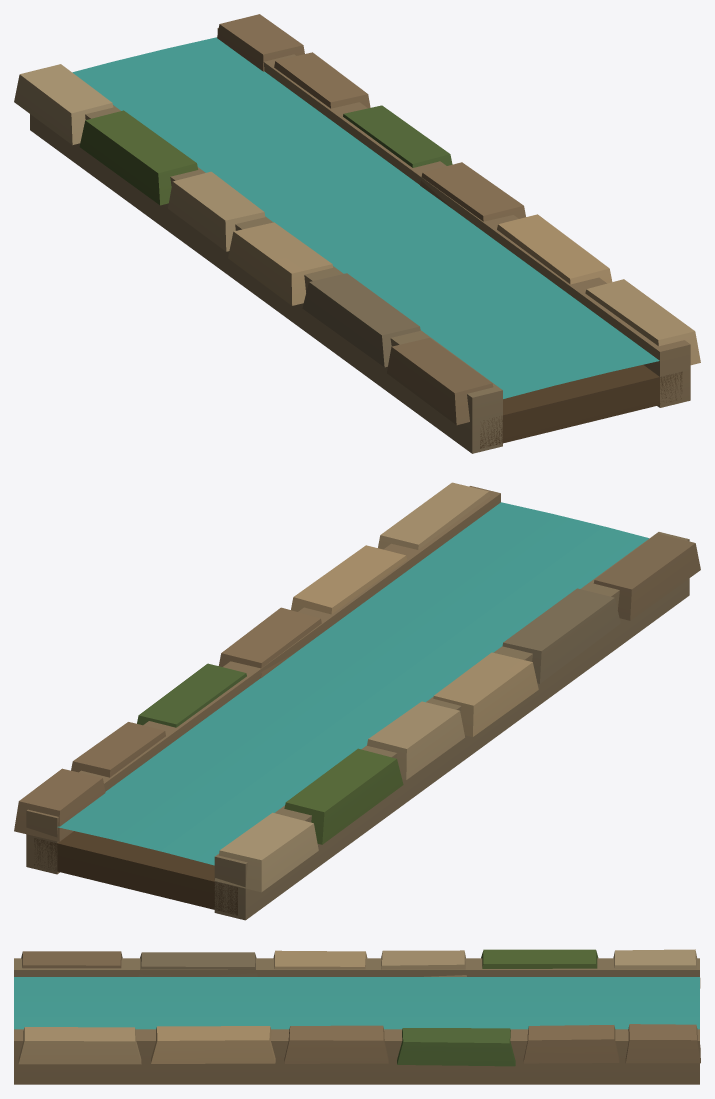
File: stream_channel.glb
3 renders of one model, top to bottom at view 1: azimuth 30°, elevation 25°; view 2: azimuth 150°, elevation 25°; view 3: azimuth 270°, elevation 25°, orthographic. The views are drawn at different scales.
Parts seen in each view (by area): view 1: stream_channel, stream_channel_water; view 2: stream_channel, stream_channel_water; view 3: stream_channel, stream_channel_water.
Part boxes in pixels (x1=…): stream_channel: x1=14, y1=14, x2=700, y2=453; stream_channel_water: x1=72, y1=37, x2=659, y2=398; stream_channel: x1=14, y1=482, x2=700, y2=920; stream_channel_water: x1=57, y1=502, x2=648, y2=865; stream_channel: x1=14, y1=949, x2=700, y2=1084; stream_channel_water: x1=14, y1=977, x2=699, y2=1029.
Size of what is drawn, in the model's own units: 1.3 by 0.3152 by 4.01.
